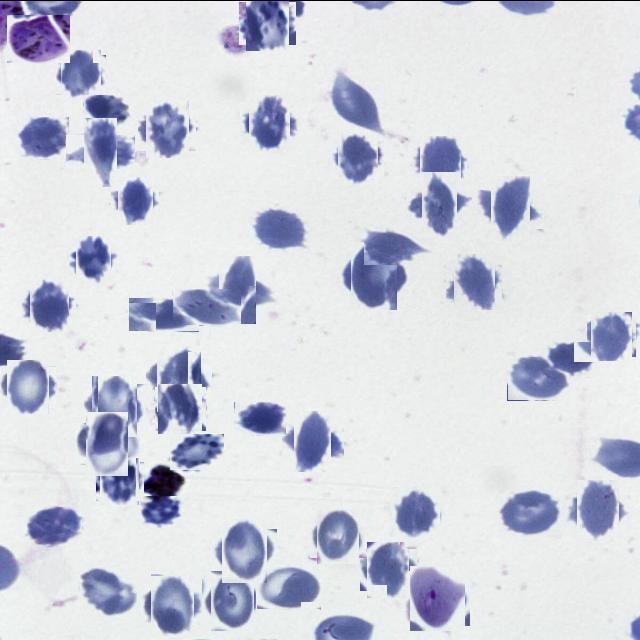red blood cell: (346, 246, 404, 304), (498, 488, 562, 536), (217, 523, 272, 578), (152, 350, 206, 406), (88, 378, 142, 432), (210, 262, 264, 316), (328, 72, 378, 130), (146, 577, 199, 631), (81, 416, 134, 470), (80, 566, 137, 616), (484, 182, 537, 235), (256, 566, 321, 609), (507, 356, 569, 400), (206, 574, 258, 626), (572, 484, 624, 536), (75, 125, 126, 177), (142, 102, 192, 154), (414, 178, 464, 230), (172, 288, 241, 325), (364, 544, 414, 594), (244, 98, 294, 148), (391, 487, 441, 537), (288, 416, 338, 465), (449, 256, 498, 306), (128, 297, 199, 331), (4, 362, 53, 411), (242, 0, 292, 48), (251, 207, 307, 249), (416, 137, 464, 185), (314, 512, 362, 560), (156, 384, 204, 432), (364, 226, 424, 264), (26, 280, 73, 328), (16, 116, 69, 158), (334, 134, 382, 180), (27, 506, 82, 546), (588, 312, 634, 358), (169, 433, 224, 470), (58, 52, 104, 96), (98, 458, 142, 502), (545, 341, 597, 377), (234, 401, 286, 435), (114, 179, 156, 221), (73, 238, 115, 280), (83, 94, 129, 124), (140, 495, 182, 527)
ring: (408, 567, 468, 628)
trophozoite: (7, 14, 70, 62)
